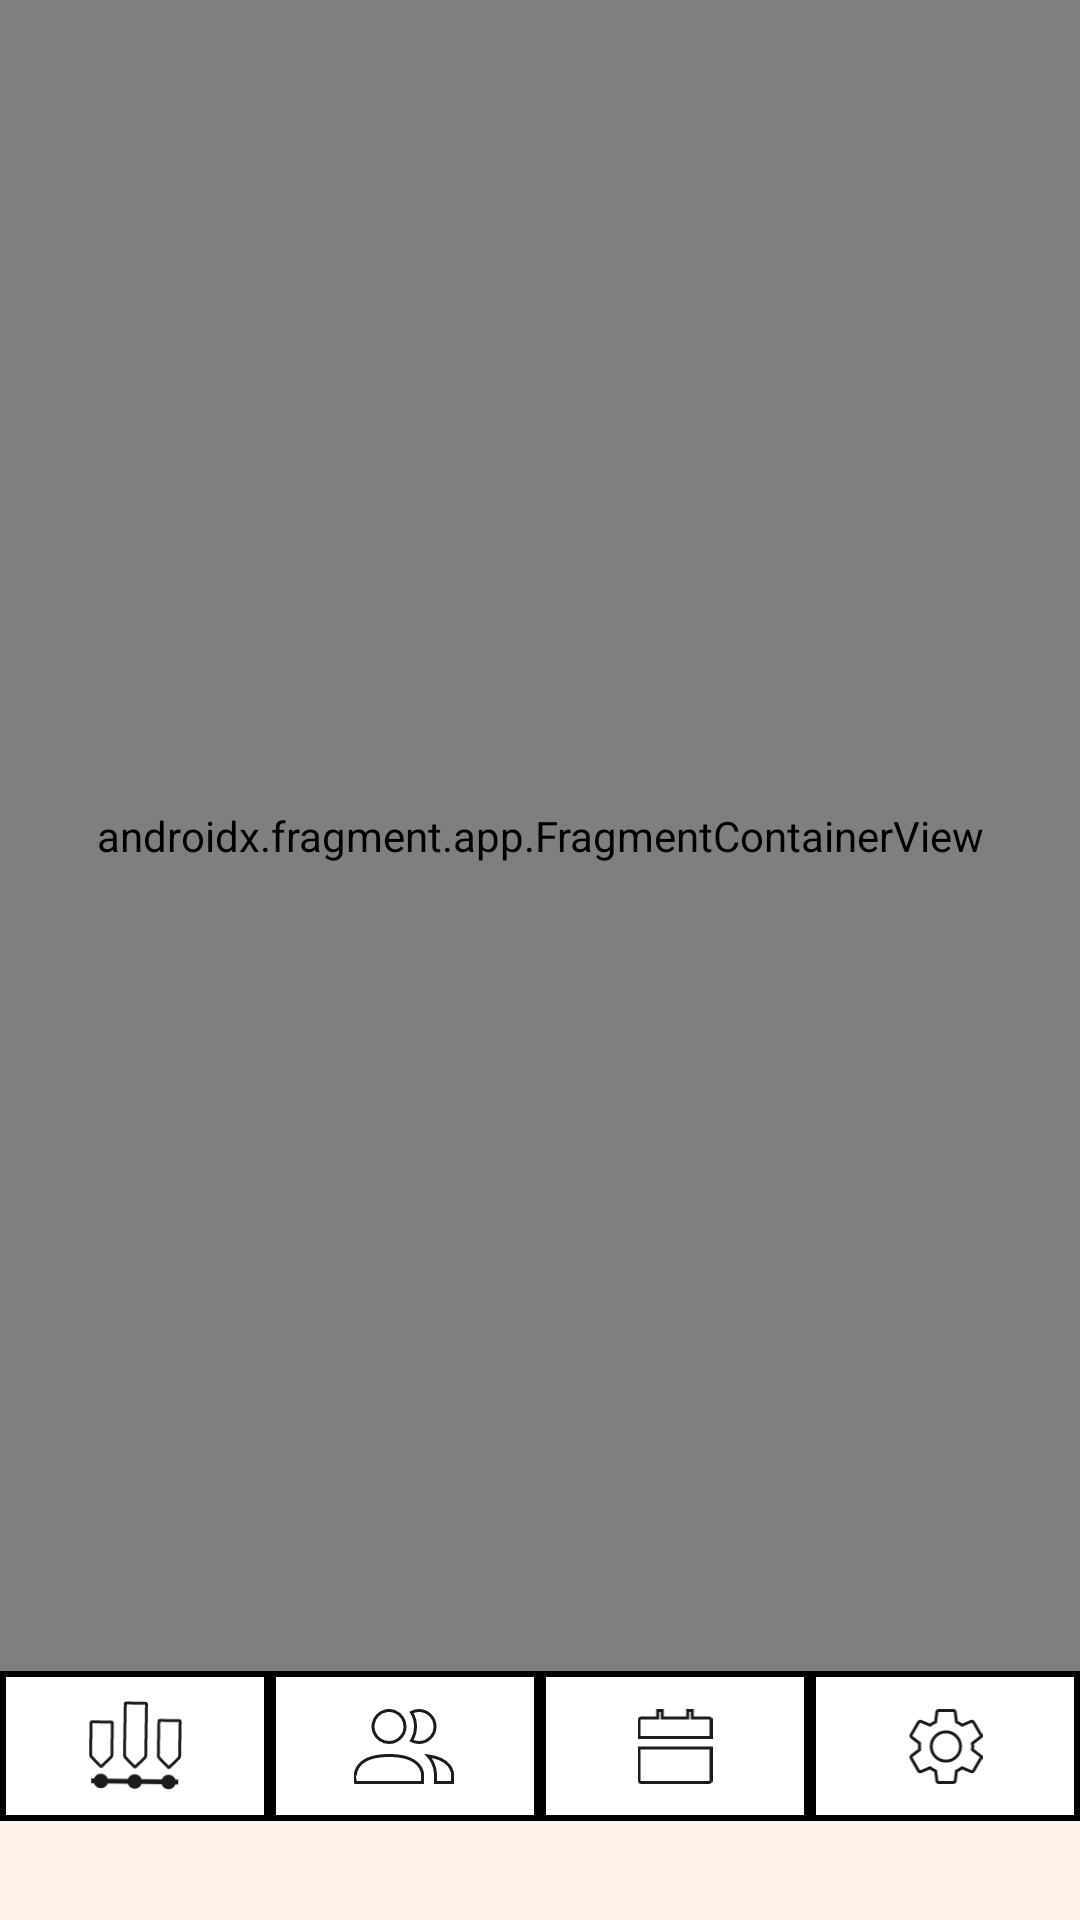

Point at icon controls on the screen. Image size 1080*1920, points as (x=x, y=y).
people: (x=404, y=1746)
